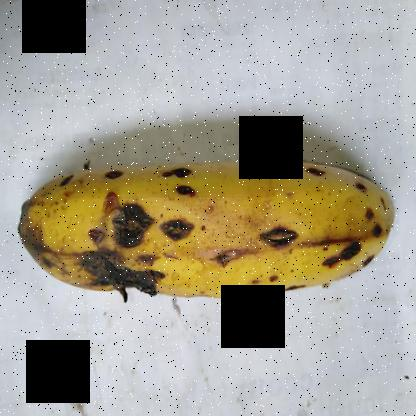rotten: (64, 199, 165, 328), (7, 177, 68, 275), (321, 204, 394, 276), (154, 204, 212, 254), (164, 159, 204, 217), (256, 216, 301, 265), (264, 267, 312, 310), (338, 166, 379, 207), (205, 246, 242, 288), (297, 160, 338, 192), (101, 158, 132, 187)
